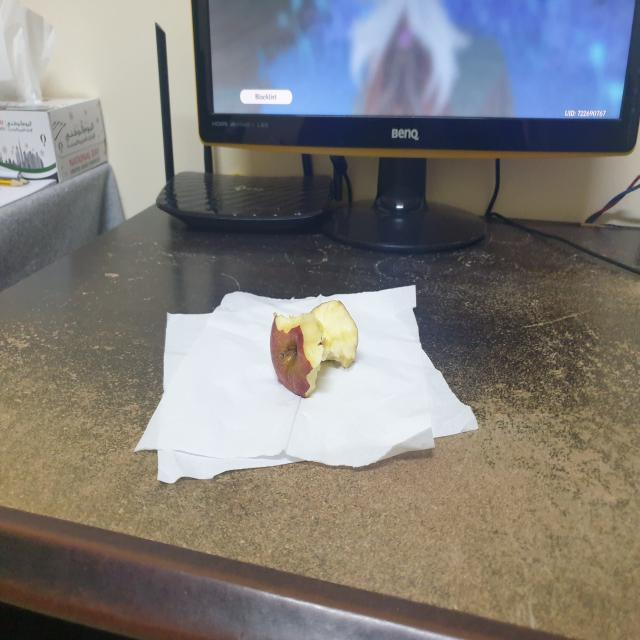apple: (264, 297, 364, 402)
